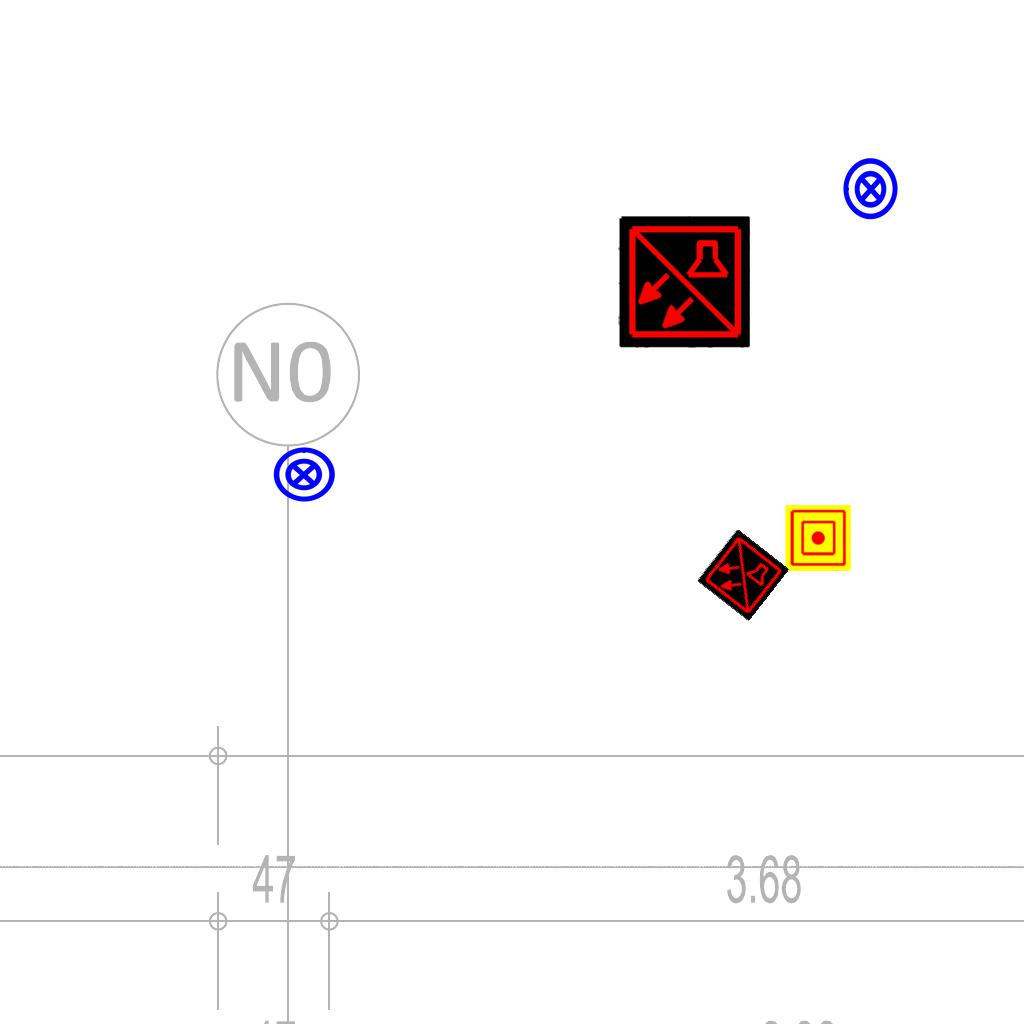NAM-Nichtautomatischer_Melder: (785, 505, 851, 571)
OKW_Multisensormelder_(Kombination_optischer_Rauch-Kahlenmonoxid_Waerme-Melder): (618, 216, 750, 348), (696, 528, 790, 622)
Taster_beleuchtet: (838, 156, 904, 222), (271, 442, 337, 508)
